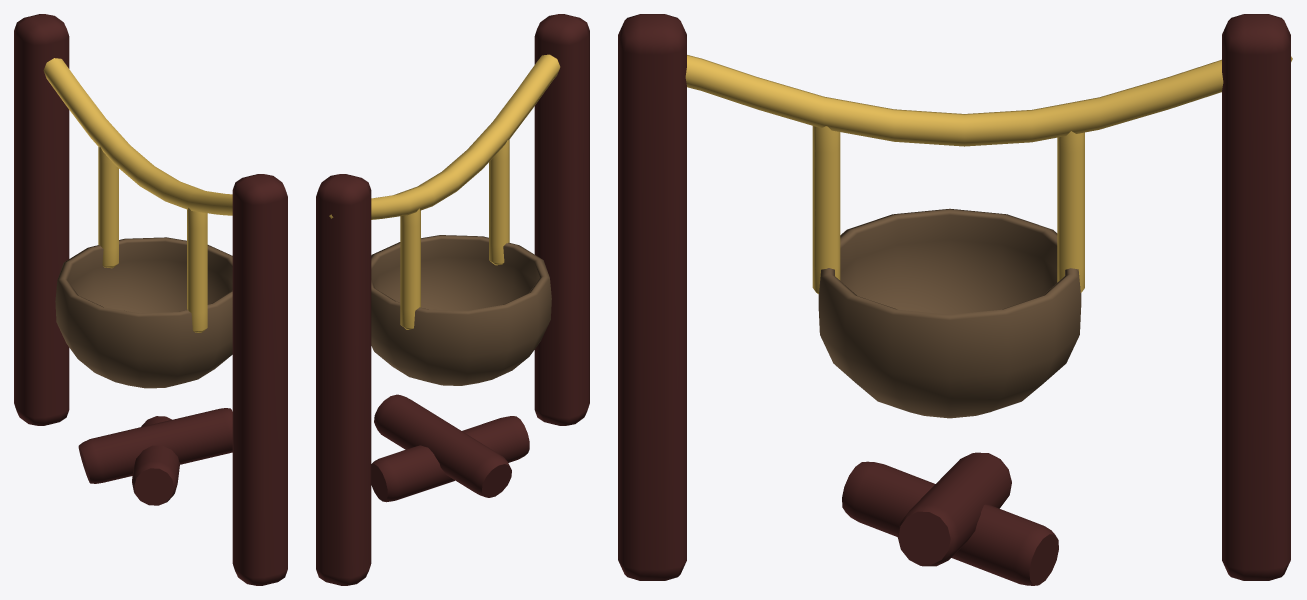
Rendered from HotPlate.fbx.
The picture shows the model from 3 angles, left to right: view 1: azimuth 30°, elevation 25°; view 2: azimuth 150°, elevation 25°; view 3: azimuth 270°, elevation 25°; orthographic projection. The views are drawn at different scales.
Parts seen in each view (by area): view 1: Hotplate12; view 2: Hotplate12; view 3: Hotplate12.
Boxes of the visible parts, left/top/right/bottom form: Hotplate12: left=14, top=14, right=287, bottom=585; Hotplate12: left=316, top=14, right=589, bottom=585; Hotplate12: left=618, top=14, right=1292, bottom=585.
Bounding box in the file's own units: 1.03 × 2.34 × 2.58.
